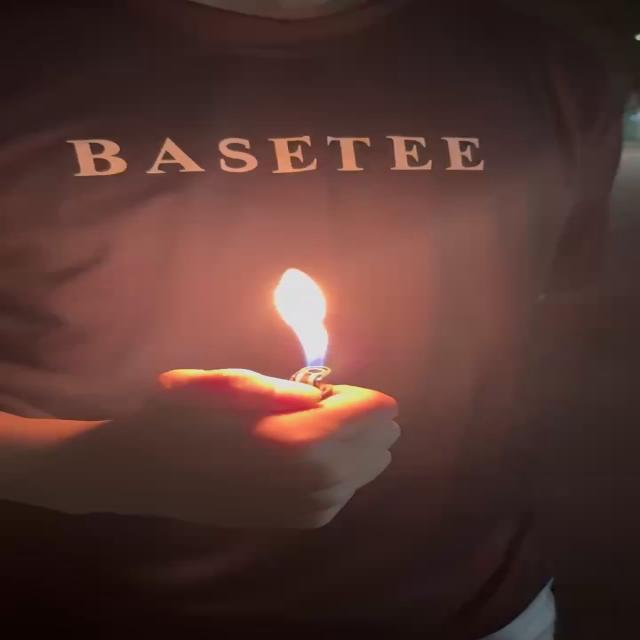Fire: (272, 266, 338, 375)
